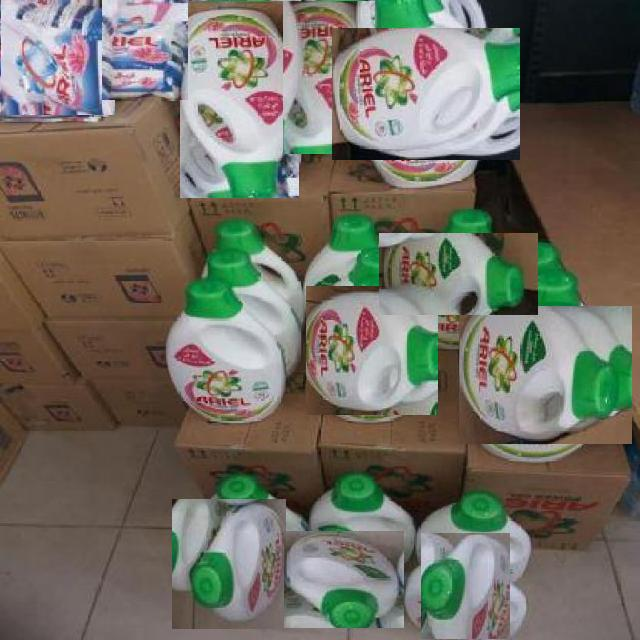Detergent: (332, 28, 520, 160), (458, 306, 632, 444), (179, 0, 299, 198), (306, 287, 438, 415), (171, 287, 286, 428), (172, 498, 286, 629), (283, 0, 375, 154), (2, 0, 115, 115), (379, 233, 538, 314), (283, 530, 404, 628), (422, 532, 510, 640), (102, 0, 188, 100)
